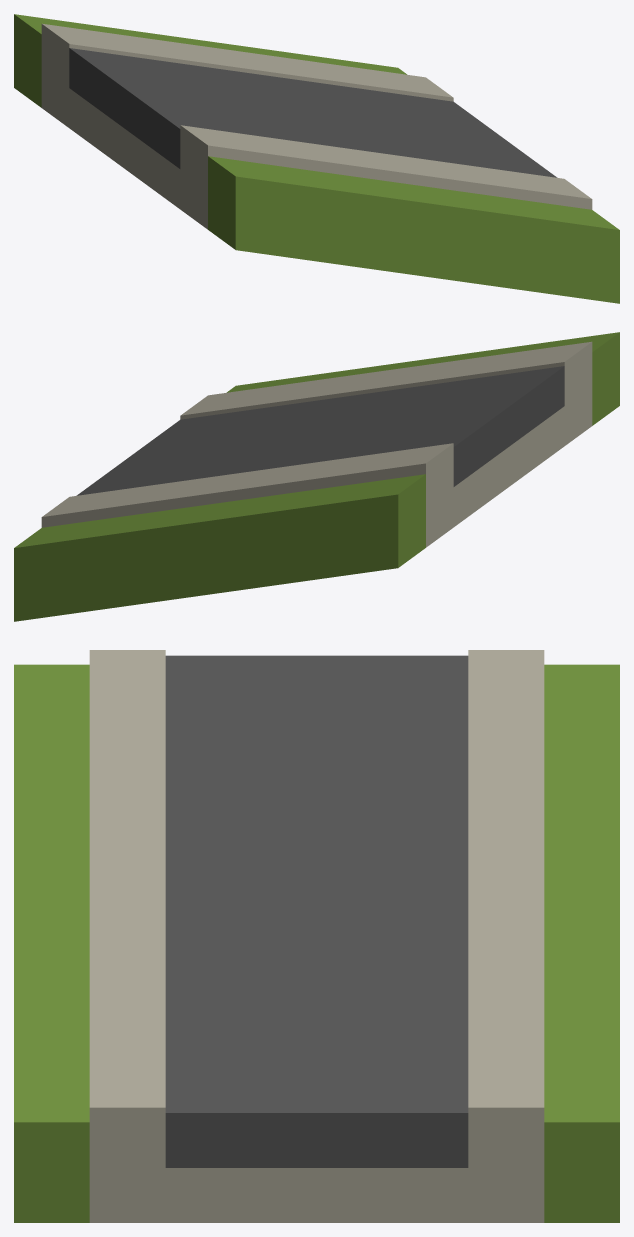
The model's file is roadTile_161.obj.
3 views of the same model, one above another, from view 1: azimuth 30°, elevation 25°; view 2: azimuth 150°, elevation 25°; view 3: azimuth 270°, elevation 25° (orthographic). The views are drawn at different scales.
Parts seen in each view (by area): view 1: Mesh1_Group1_Model.026; view 2: Mesh1_Group1_Model.026; view 3: Mesh1_Group1_Model.026.
Boxes of the visible parts, x1,y1,x2,y2 form: Mesh1_Group1_Model.026: (14, 14, 619, 303); Mesh1_Group1_Model.026: (14, 332, 619, 621); Mesh1_Group1_Model.026: (14, 650, 619, 1222).
Bounding box in the file's own units: 3 × 1.73 × 3.
